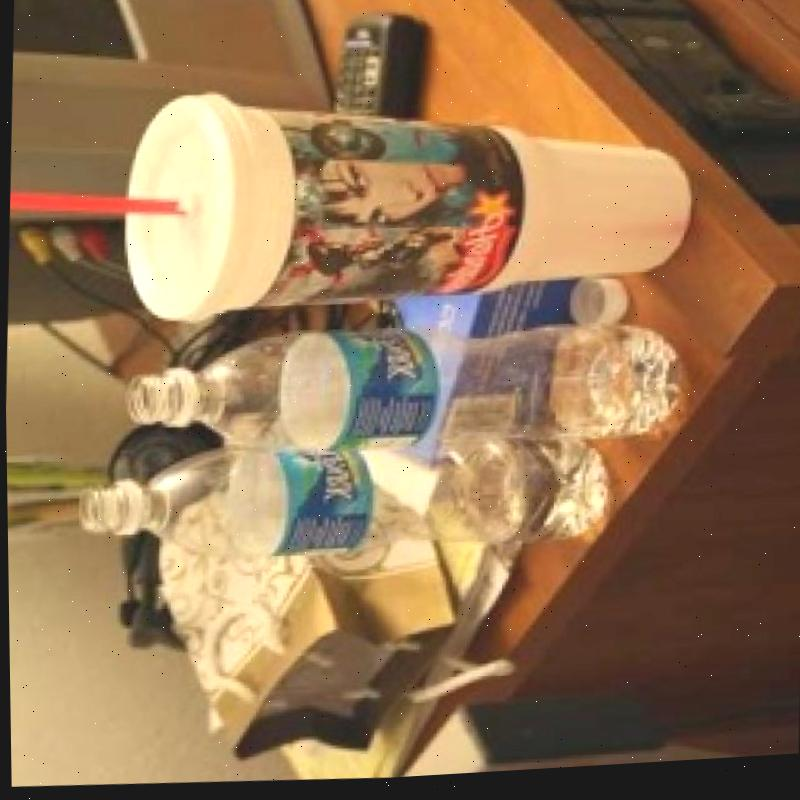botella: (126, 310, 688, 477), (72, 428, 612, 585)
